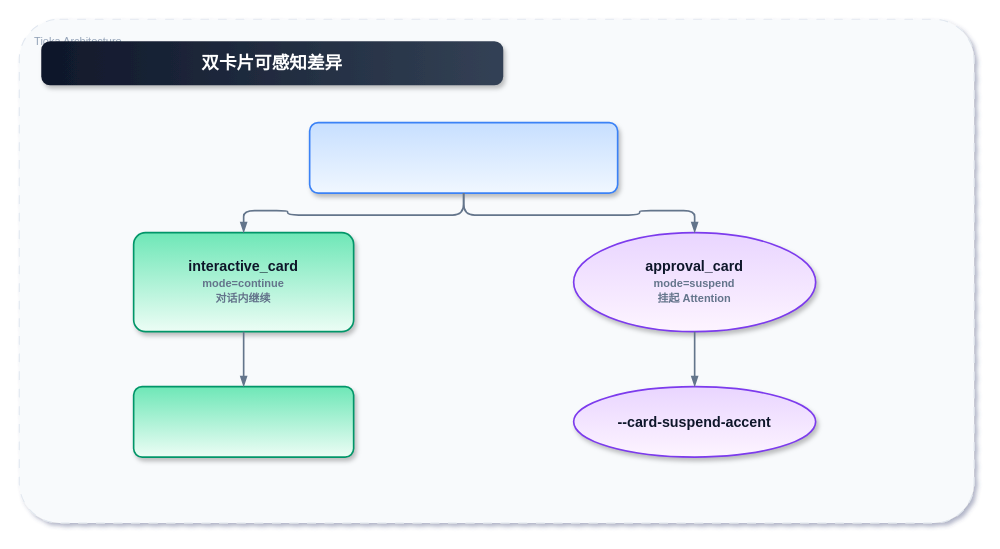
This 1000x549 diagram has some shape labels left out. Each missing label, with the centre of its shape:
"--card-continue-accent" goes at (x=244, y=423).
"双卡片可感知差异（ADR-004）" goes at (x=464, y=159).
